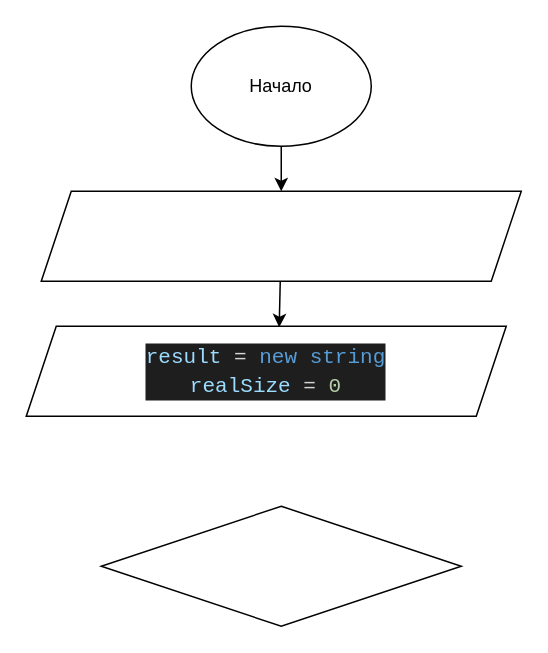
Image size: 548x653. Some labels were removed from this diagram. Each missing label, with the centre of its shape:
value . Length <= 3: (x=280, y=565)
ввод stroka "Введите массив строк через пробел": (x=280, y=235)
